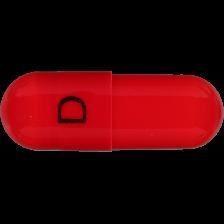65862-476: (0, 0, 224, 224)
